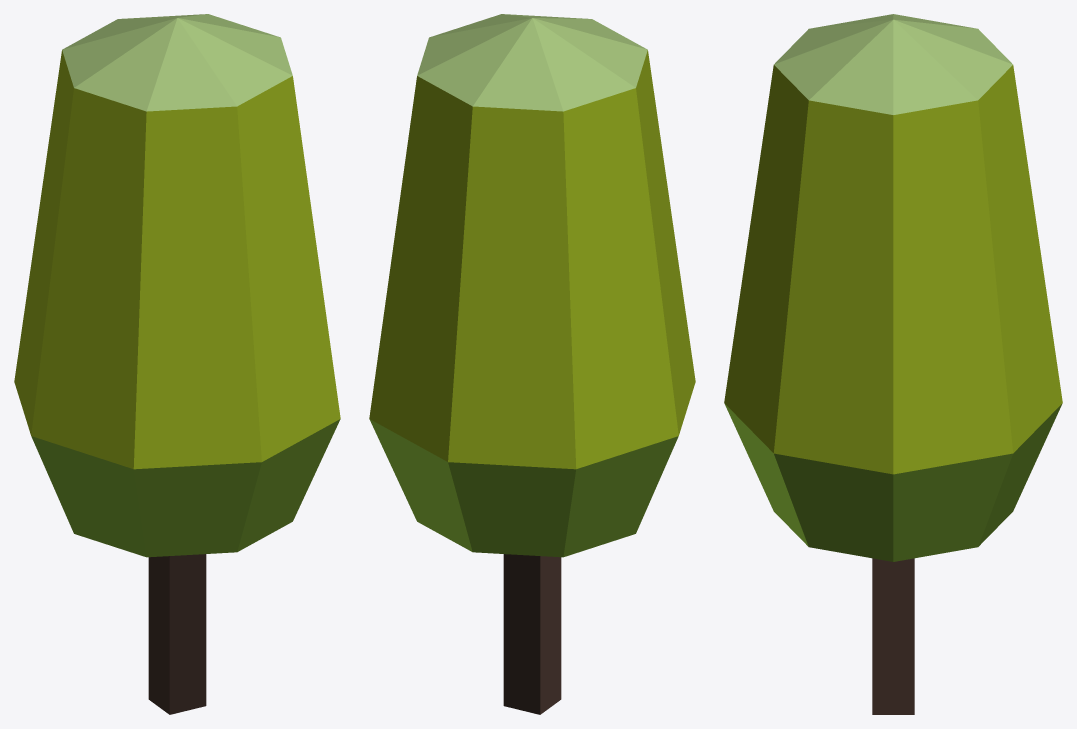
File: TB_CITY_Env_Tree_Round_B.FBX
3 views of the same model, side by side, from view 1: azimuth 30°, elevation 25°; view 2: azimuth 150°, elevation 25°; view 3: azimuth 270°, elevation 25° (orthographic).
Parts seen in each view (by area): view 1: TB_CITY_Env_Tree_Round_B; view 2: TB_CITY_Env_Tree_Round_B; view 3: TB_CITY_Env_Tree_Round_B.
Boxes of the visible parts, <box> form: TB_CITY_Env_Tree_Round_B: <box>14,14,340,714</box>; TB_CITY_Env_Tree_Round_B: <box>369,14,695,714</box>; TB_CITY_Env_Tree_Round_B: <box>724,14,1062,714</box>.
Size of the model in its own units: 2.88 by 6.44 by 2.88.
